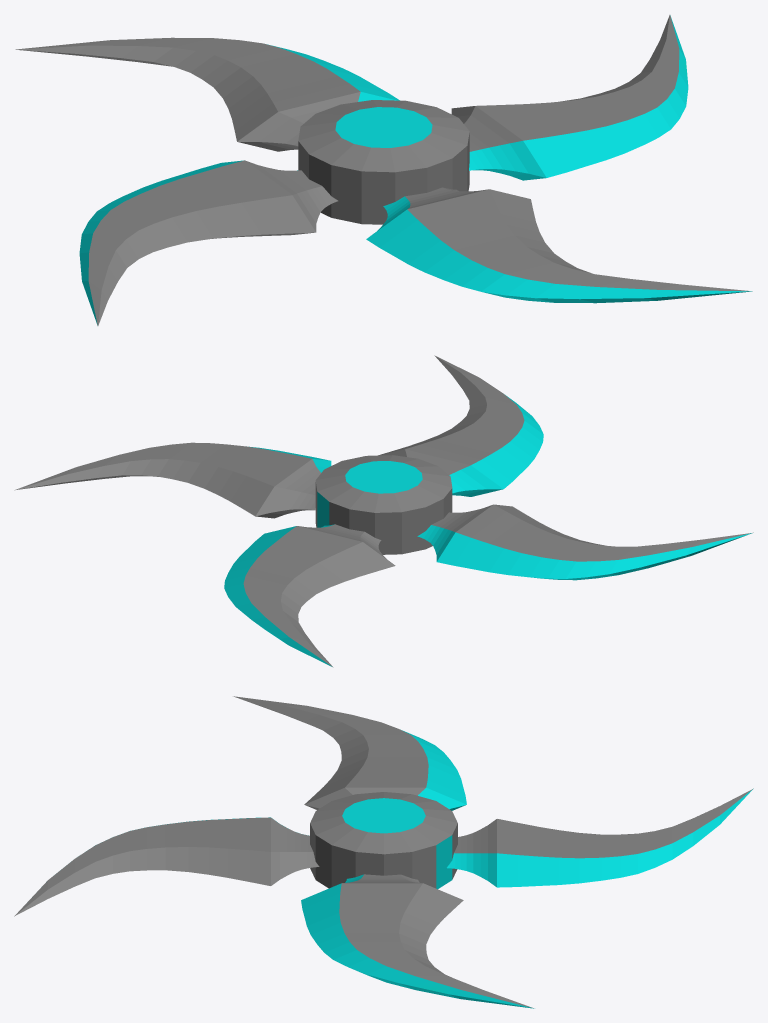
The model's file is Beyblade_Upgraded_Blade_Ice.fbx.
The picture shows the model from 3 angles, top to bottom: view 1: azimuth 30°, elevation 25°; view 2: azimuth 150°, elevation 25°; view 3: azimuth 270°, elevation 25°; orthographic projection. The views are drawn at different scales.
Parts seen in each view (by area): view 1: Circle.001; view 2: Circle.001; view 3: Circle.001.
Boxes of the visible parts, x1=… form: Circle.001: x1=15, y1=15, x2=752, y2=325; Circle.001: x1=14, y1=355, x2=753, y2=667; Circle.001: x1=14, y1=696, x2=753, y2=1008.
Bounding box in the file's own units: 394 × 35.77 × 394.
Materials: 1 (1 with a texture image).
